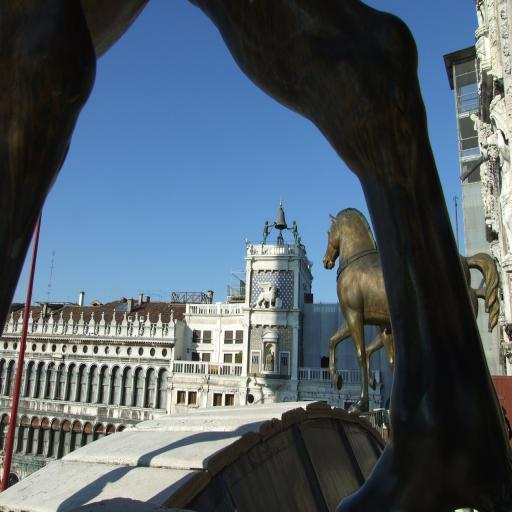horse: (322, 206, 500, 411), (365, 286, 500, 390)
